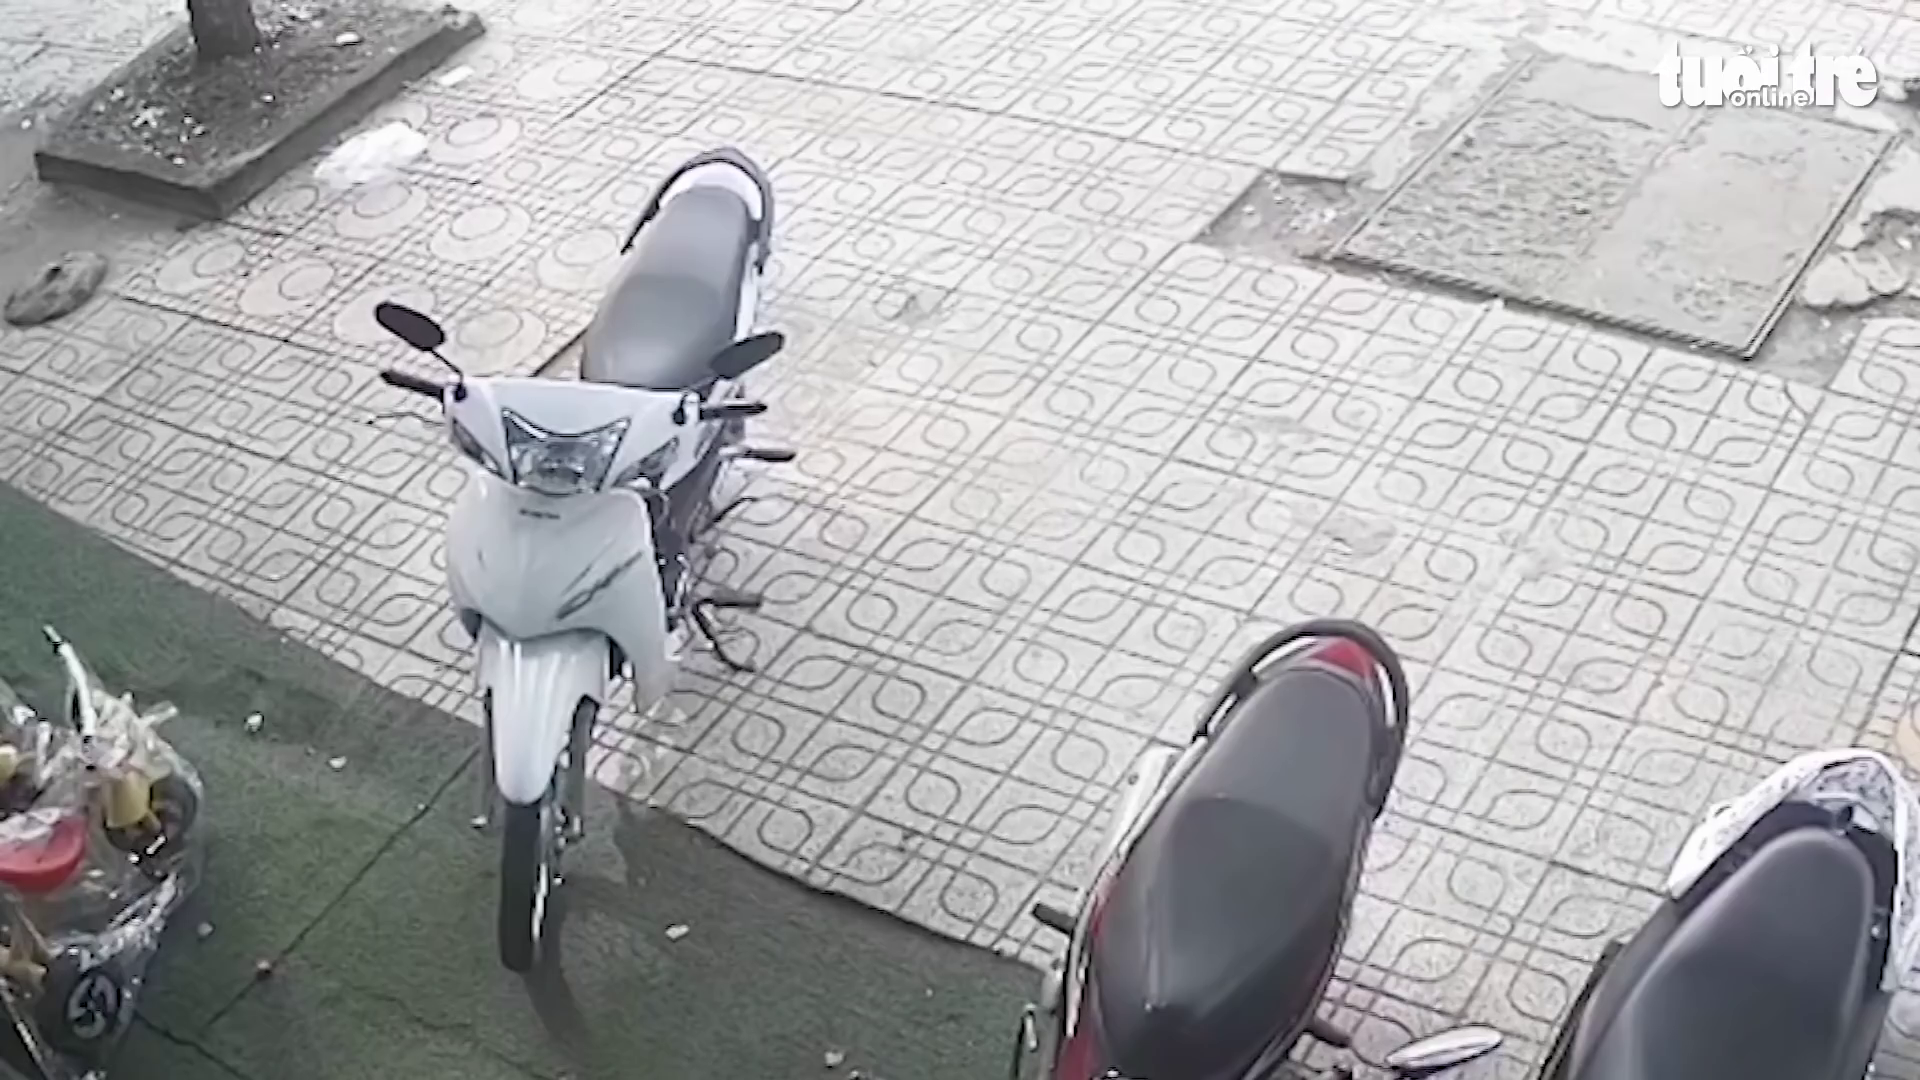Motorcycle: (1010, 617, 1916, 1069), (371, 144, 795, 975), (1, 622, 210, 1065)
